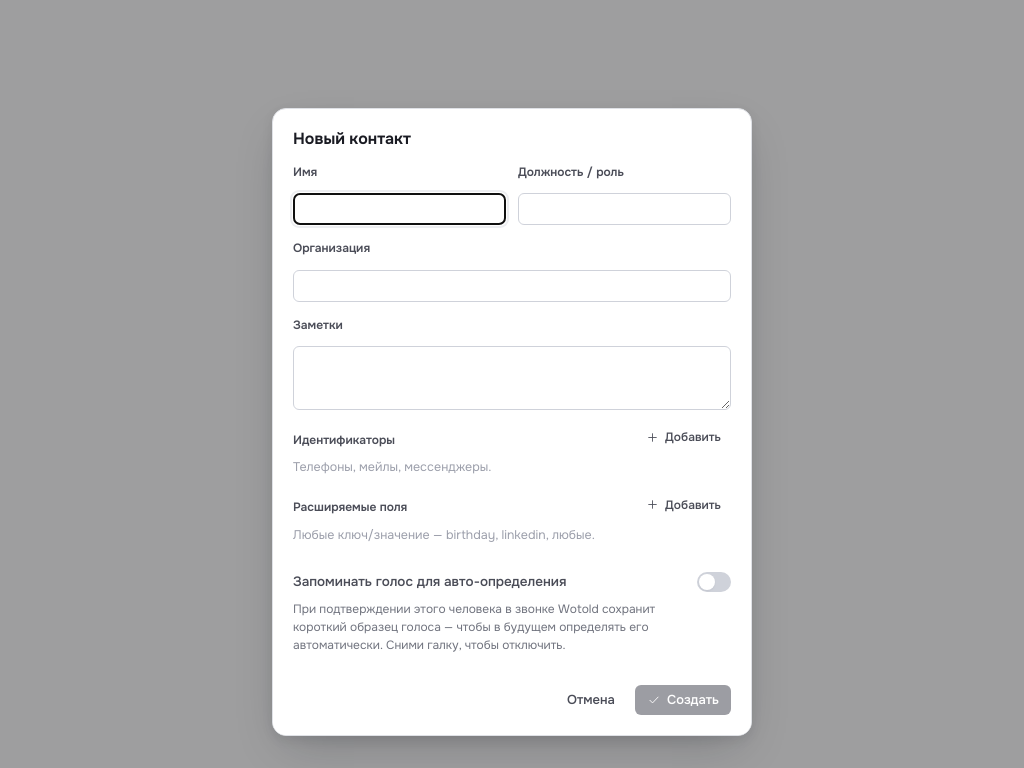
Test: ContactFormModal › submit disabled while name empty, enabled after typing
Expected: the button "Создать" is disabled, top-left (635, 685), bottom-right (731, 715)
Type "Анна" into the field labelled "Имя" at {"x": 400, "y": 209}, box top-left (293, 193), bottom-right (506, 225)
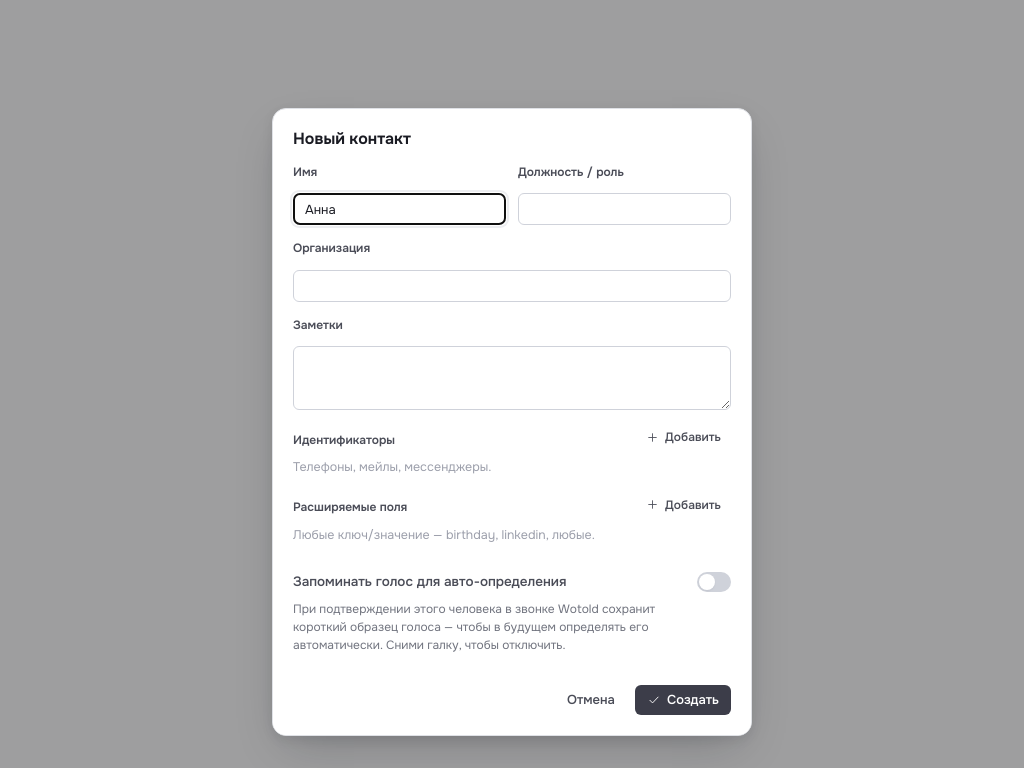
Now the button "Создать" is enabled, box top-left (635, 685), bottom-right (731, 715)
